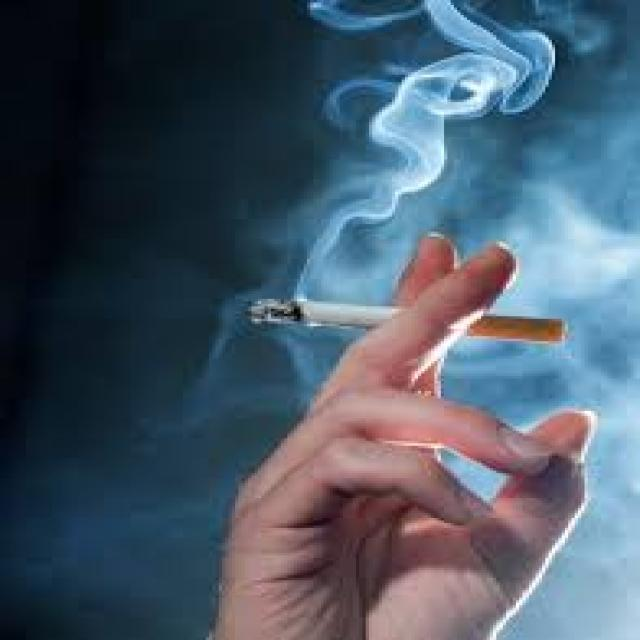rokok: (248, 294, 574, 356)
